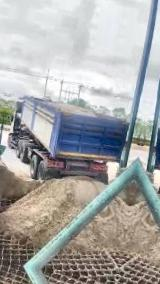sand: (0, 177, 104, 245), (68, 198, 130, 251), (0, 160, 40, 200), (44, 101, 96, 117), (120, 181, 135, 205)
